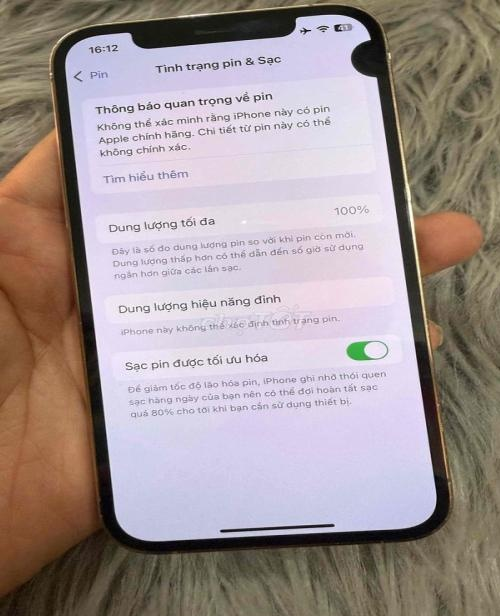screen_defect: (321, 15, 413, 107)
